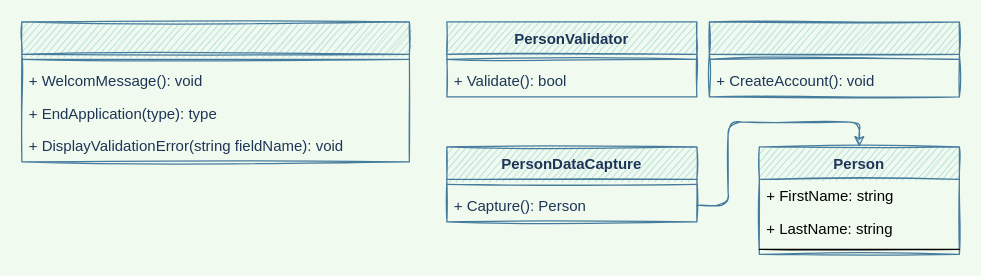
This 981x276 diagram has some shape labels left out. The shapes that lost their labels are listed below. From the top down, each one's box as (x1, y1, x2, y2) in pixels, then its label:
(708, 21, 959, 97): AccountGenerator
(21, 21, 409, 162): StandardMessages
